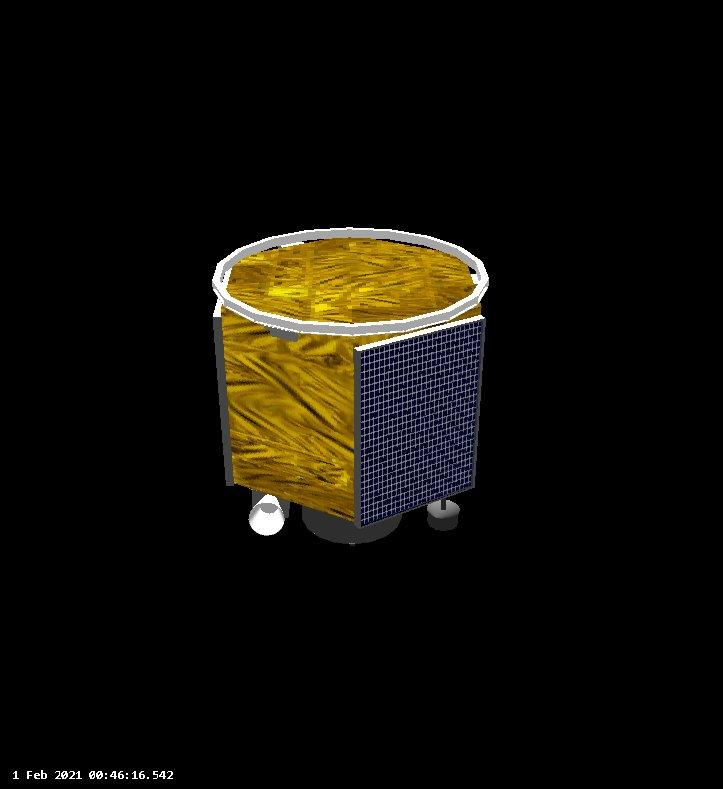antenna: (424, 488, 459, 533)
body: (219, 235, 487, 529)
solar: (349, 312, 486, 529), (210, 259, 239, 489)
thruster: (297, 504, 406, 546), (244, 492, 288, 541)
